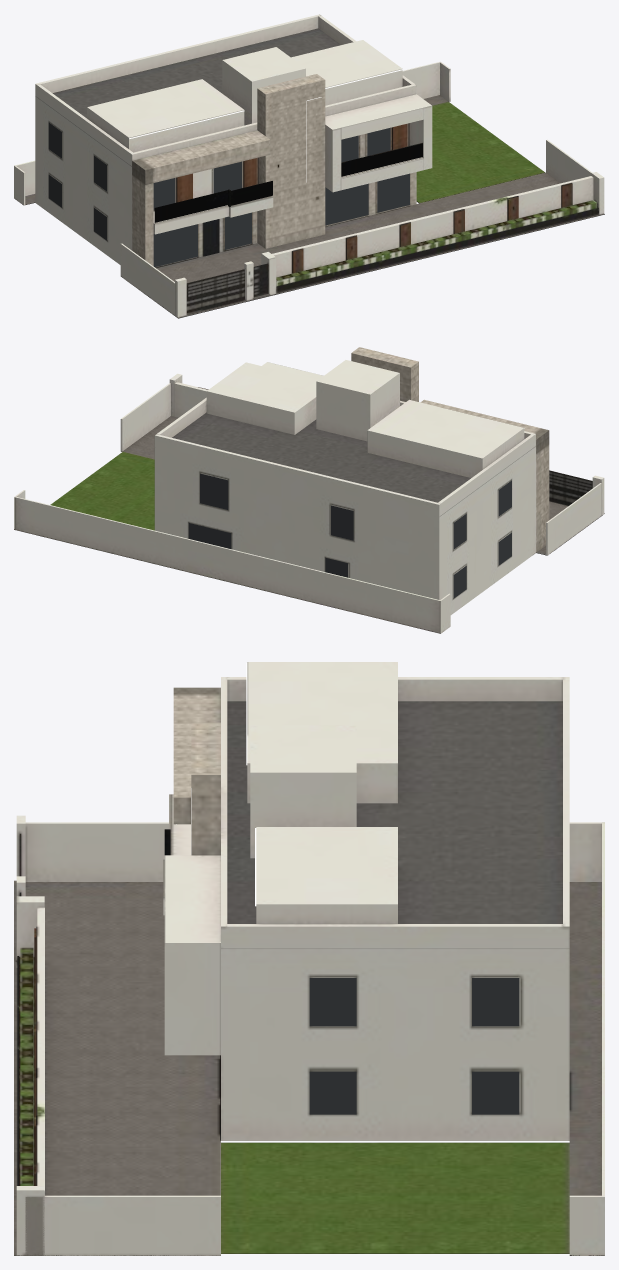
The model's file is house_E_lod1.glb.
3 renders of one model, top to bottom at view 1: azimuth 30°, elevation 25°; view 2: azimuth 150°, elevation 25°; view 3: azimuth 270°, elevation 25°, orthographic. The views are drawn at different scales.
Visible parts, largest first — view 1: body, glass; view 2: body, glass; view 3: body, glass.
Boxes of the visible parts, x1,y1,x2,y2 form: body: (14, 14, 604, 318); glass: (48, 122, 409, 266); body: (14, 347, 604, 633); glass: (188, 473, 511, 598); body: (14, 662, 604, 1255); glass: (309, 978, 519, 1114).
Size of the model in its own units: 30 by 10.4 by 20.
3 materials, 1 textured.
